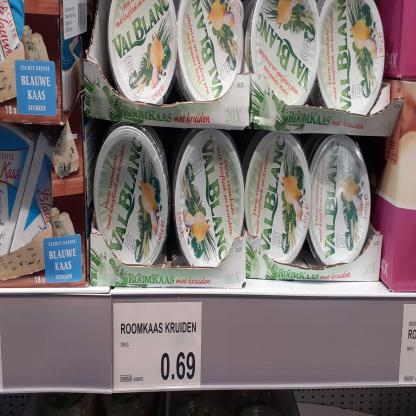prtg: (114, 303, 203, 392)
